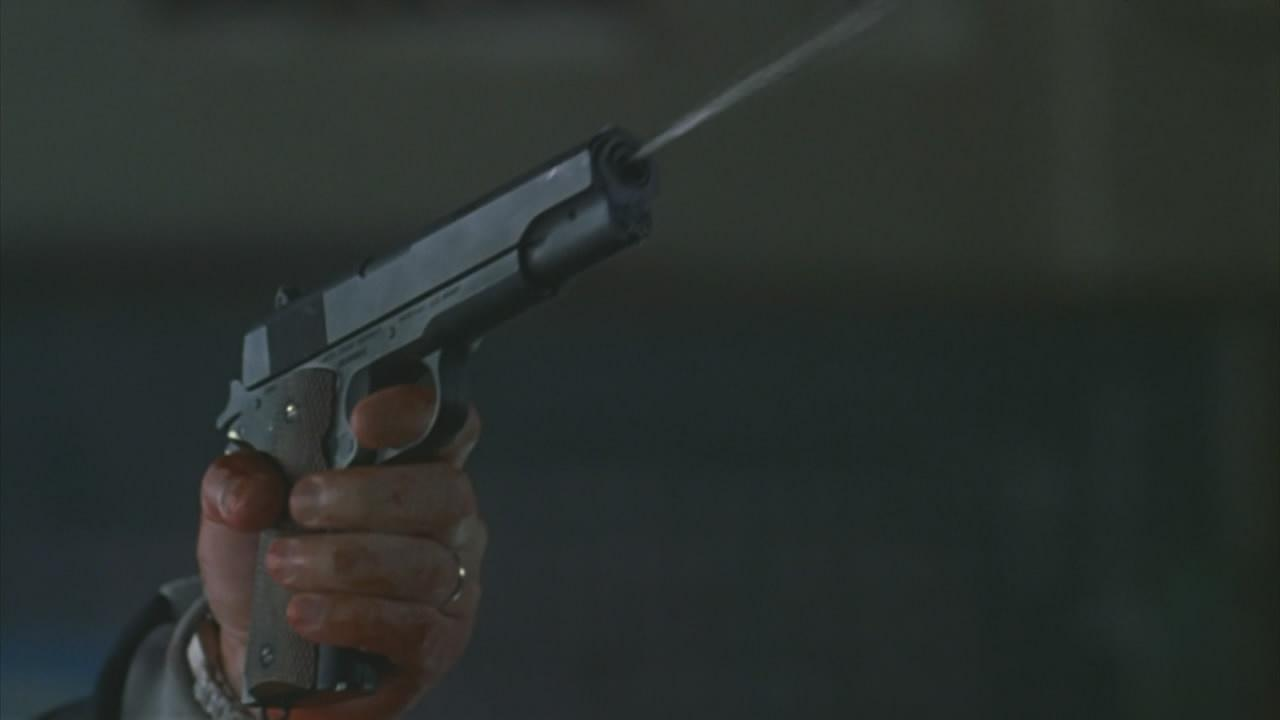gun: (217, 118, 663, 720)
